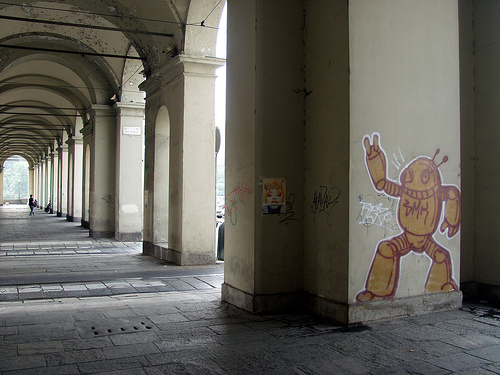graffiti: (356, 128, 461, 303), (257, 171, 300, 228), (223, 180, 252, 227), (307, 183, 345, 218), (358, 199, 392, 227), (100, 192, 113, 205)
